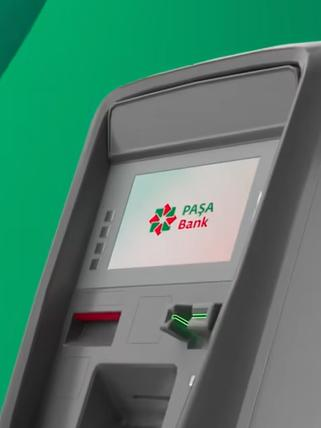Pasha Bank: (147, 202, 177, 238)
